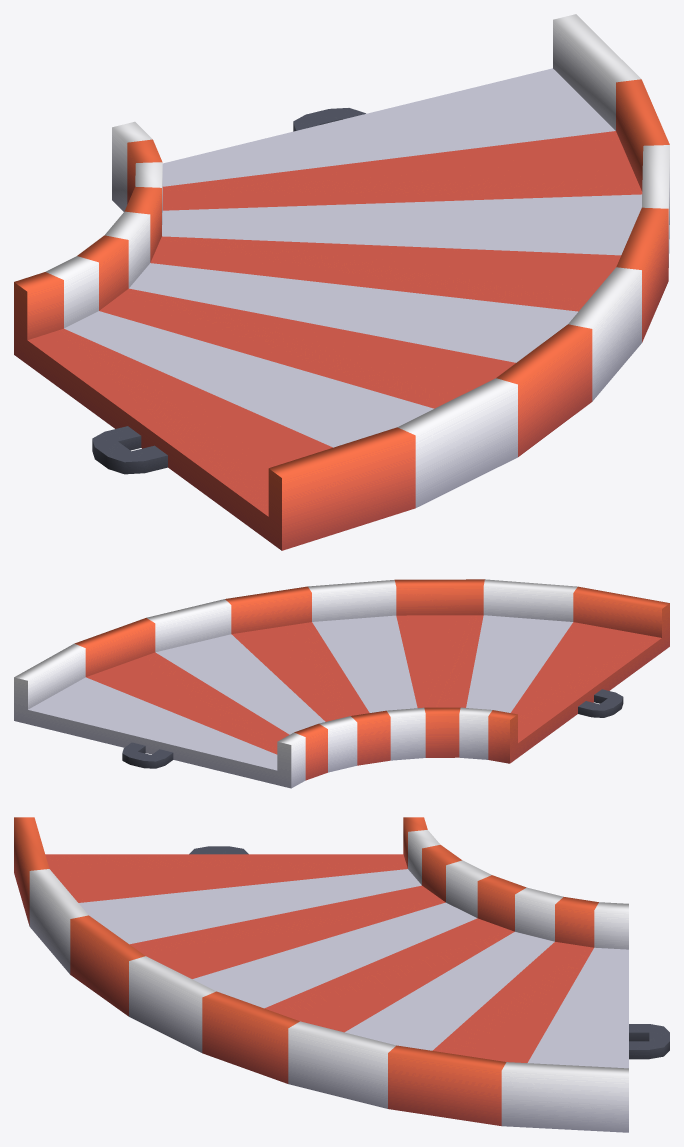
The model's file is track-striped-wide-corner-small.glb.
The picture shows the model from 3 angles, top to bottom: view 1: azimuth 30°, elevation 25°; view 2: azimuth 150°, elevation 25°; view 3: azimuth 270°, elevation 25°; orthographic projection. The views are drawn at different scales.
Visible parts, largest first — view 1: track-striped-wide-corner-small; view 2: track-striped-wide-corner-small; view 3: track-striped-wide-corner-small.
Boxes of the visible parts, box(x1,y1,x2,y2) form: track-striped-wide-corner-small: box(14, 14, 669, 550); track-striped-wide-corner-small: box(14, 579, 669, 788); track-striped-wide-corner-small: box(14, 817, 669, 1132).
Size of the model in its own units: 9.6 by 0.9 by 9.6.
1 material, 1 textured.
